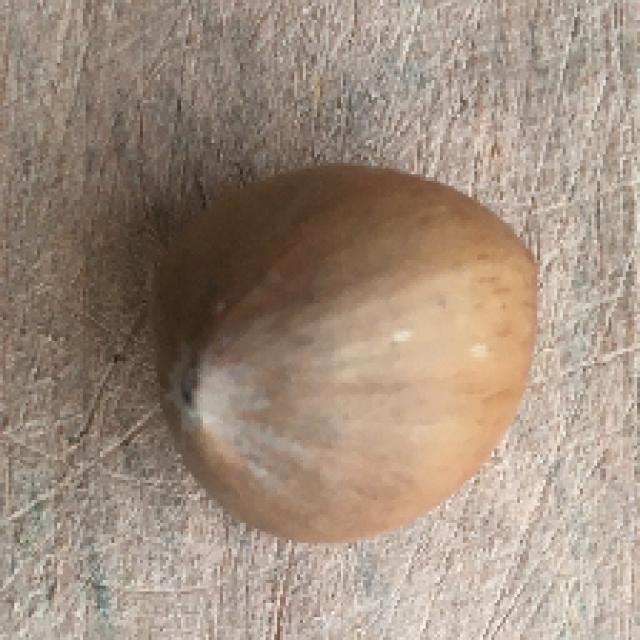qualityHazelnut: (172, 166, 542, 548)
